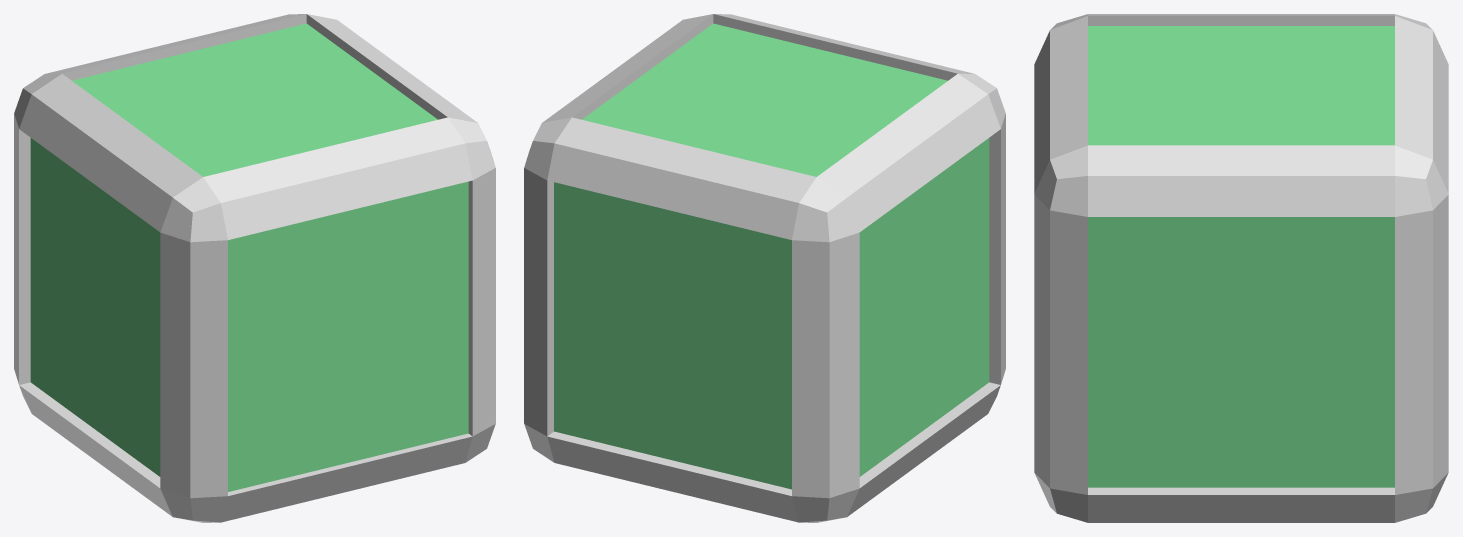
The model's file is CombineBox.fbx.
3 views of the same model, side by side, from view 1: azimuth 30°, elevation 25°; view 2: azimuth 150°, elevation 25°; view 3: azimuth 270°, elevation 25° (orthographic). The views are drawn at different scales.
Visible parts, largest first — view 1: CombineBox; view 2: CombineBox; view 3: CombineBox.
Boxes of the visible parts, x1,y1,x2,y2 form: CombineBox: (14,14,495,522); CombineBox: (524,14,1005,522); CombineBox: (1034,14,1448,522).
Size of the model in its own units: 200 by 200 by 200.
